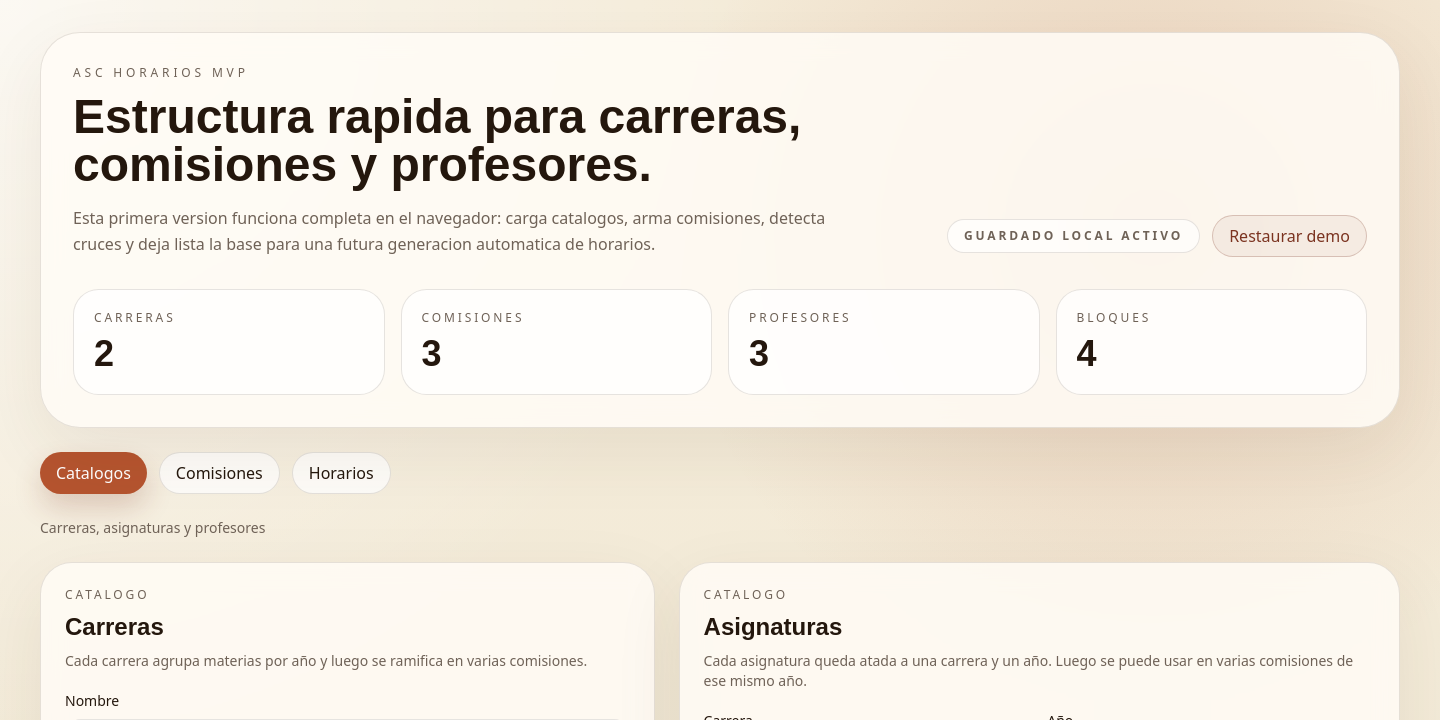
it: AppShell › allows leaving a pending block without teacher and shows it under Sin profesor
The image size is (1440, 720).
Click the button "Horarios": (341, 473) [292, 452, 391, 494]
(page scrolled)
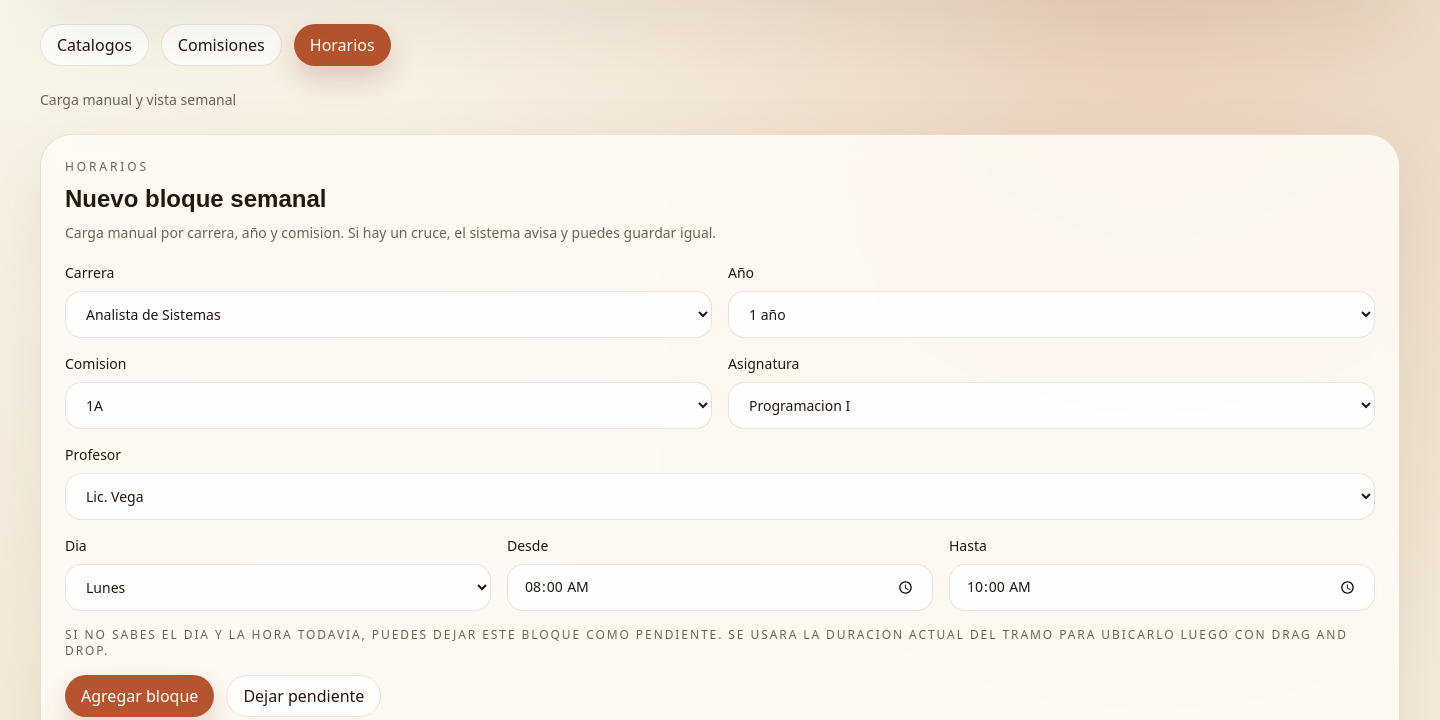
Select "Arquitectura de Computadoras" in the dropdown labelled "Asignatura": (1052, 406) [728, 382, 1375, 429]
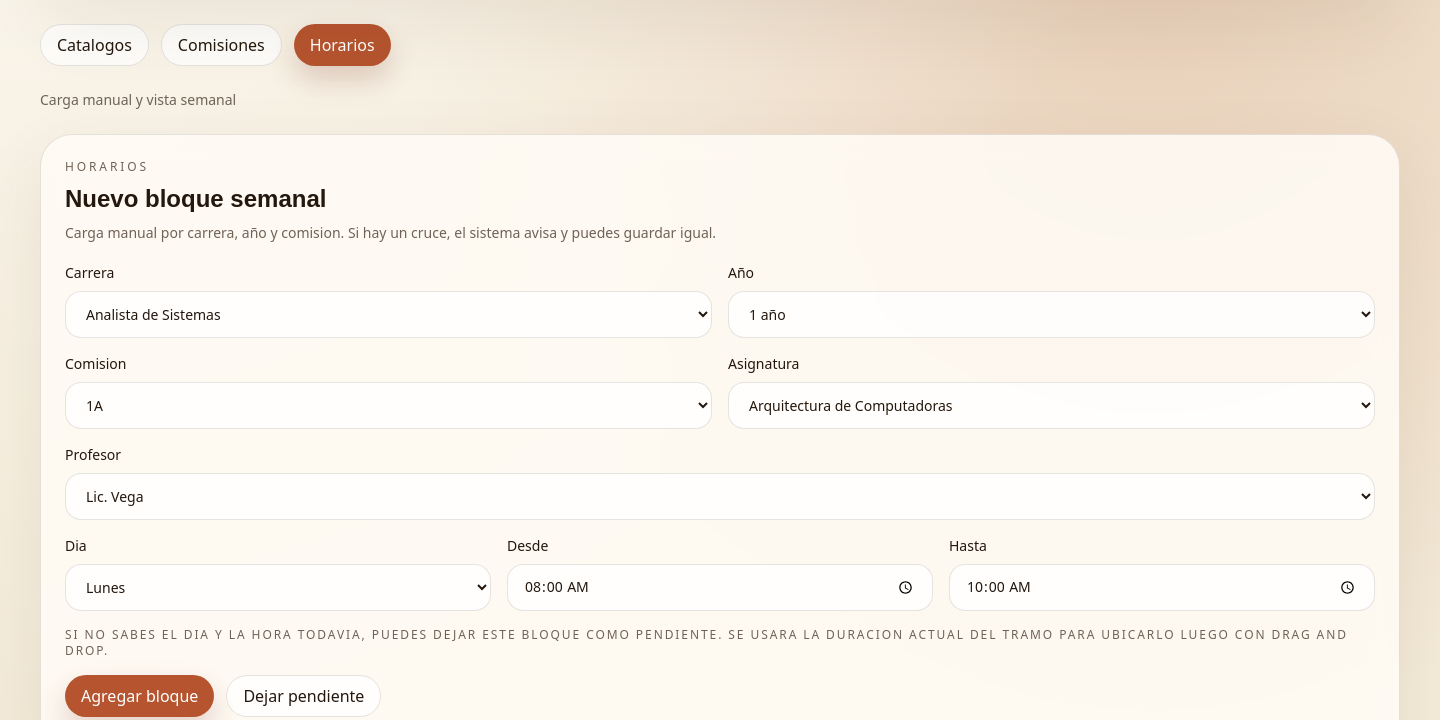
Select "Sin profesor" in the dropdown labelled "Profesor": (720, 496) [65, 473, 1375, 520]
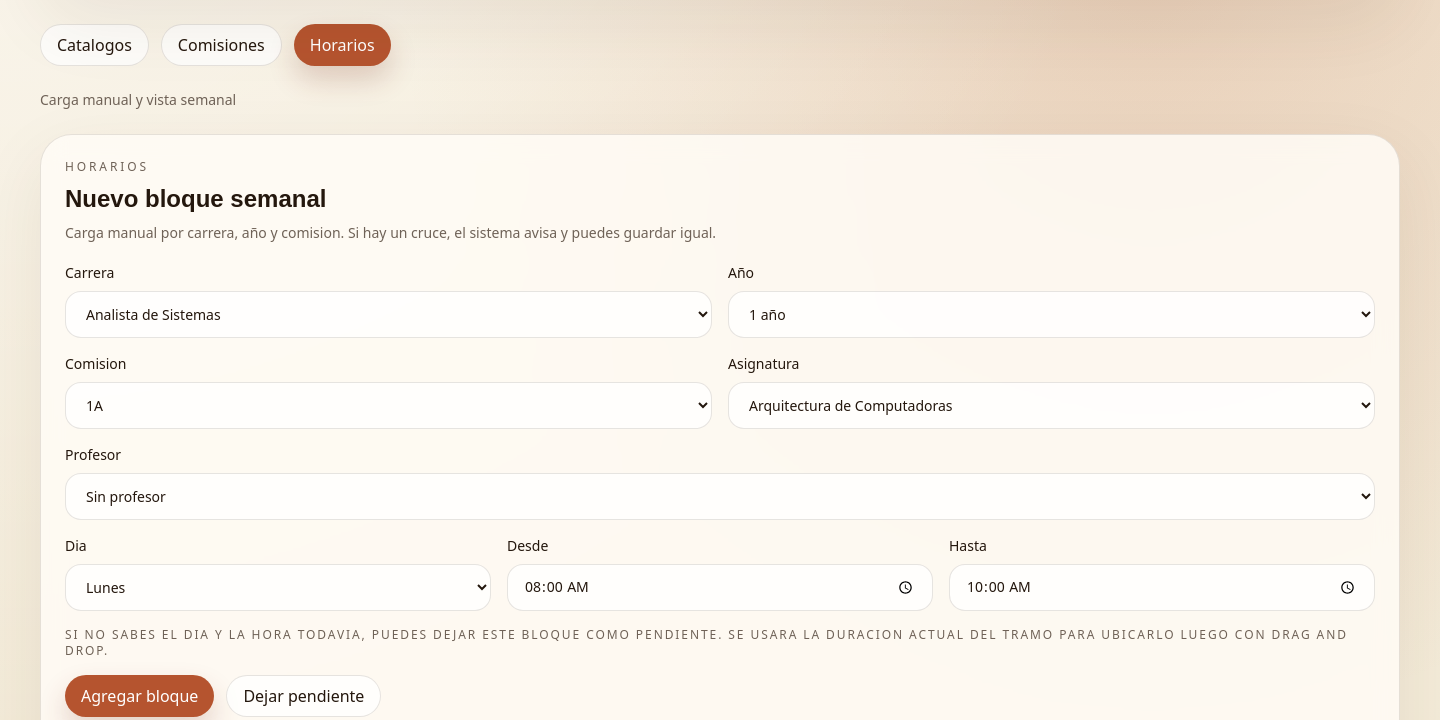
Click the button "Dejar pendiente": (304, 696) [226, 675, 381, 717]
(page scrolled)
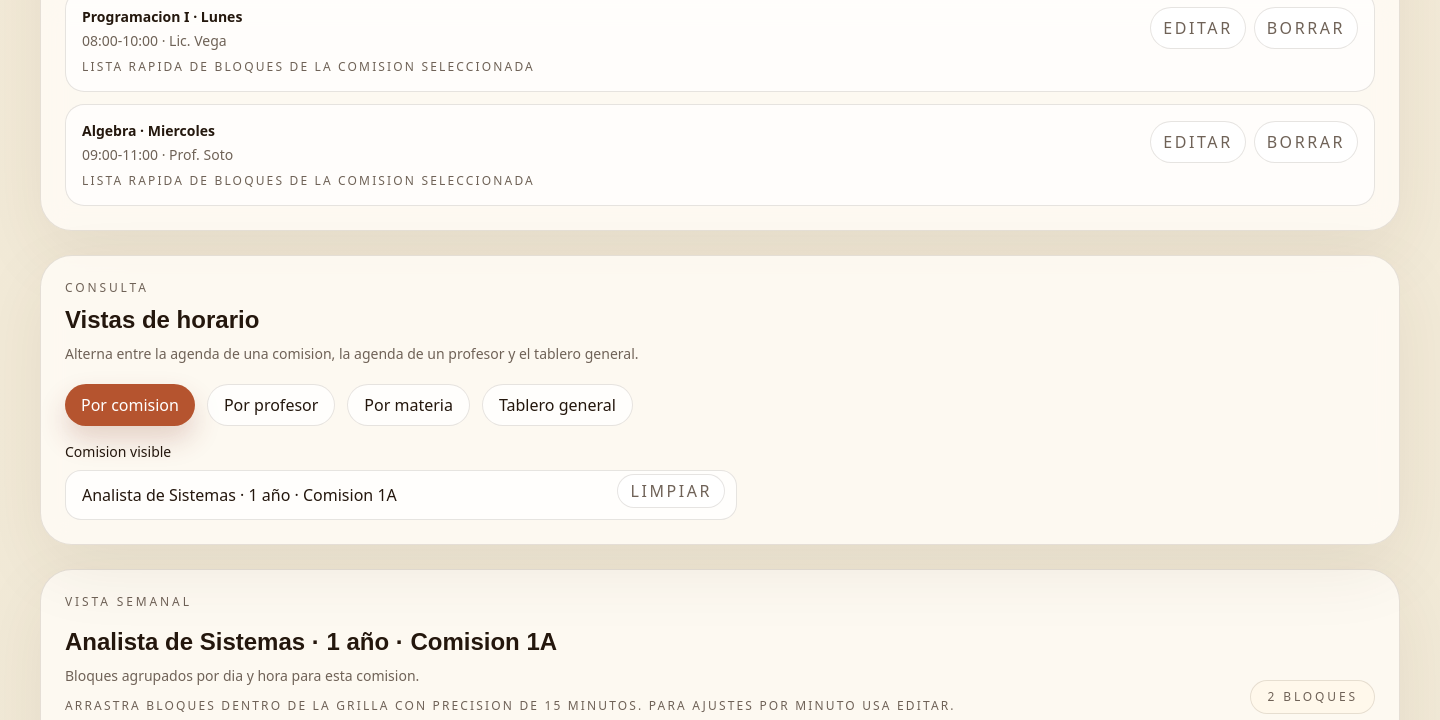
Click the button "Por profesor": (271, 405) [207, 384, 335, 426]
(page scrolled)
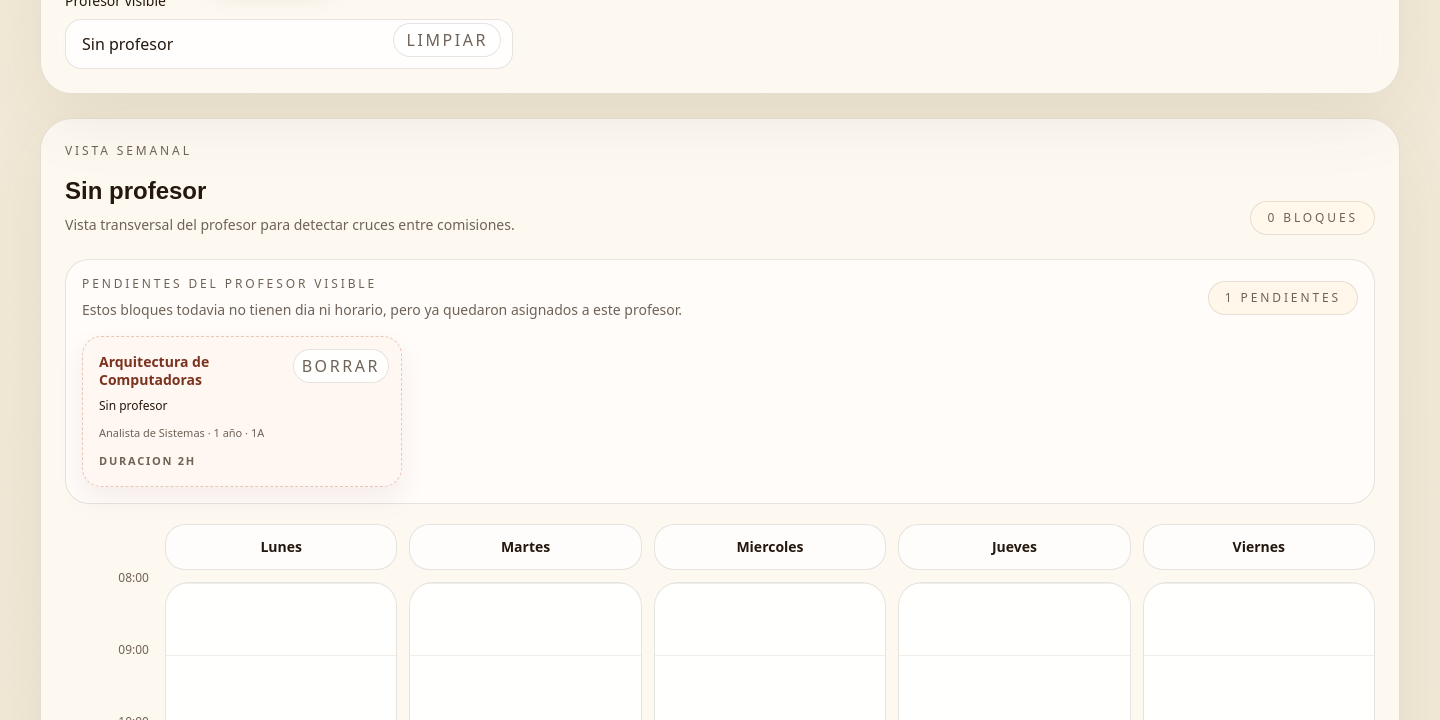
Now the text "Arquitectura de Computadoras" is shown, box [99, 352, 209, 388]
Now the text "Sin profesor" is shown, box [99, 397, 167, 414]
Now the dropdown labelled "Profesor visible" holds "Sin profesor", box [65, 19, 513, 69]
